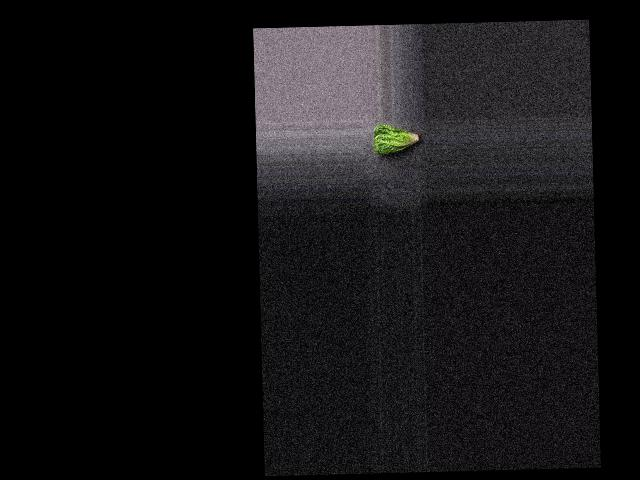lettuce: (372, 122, 422, 156)
